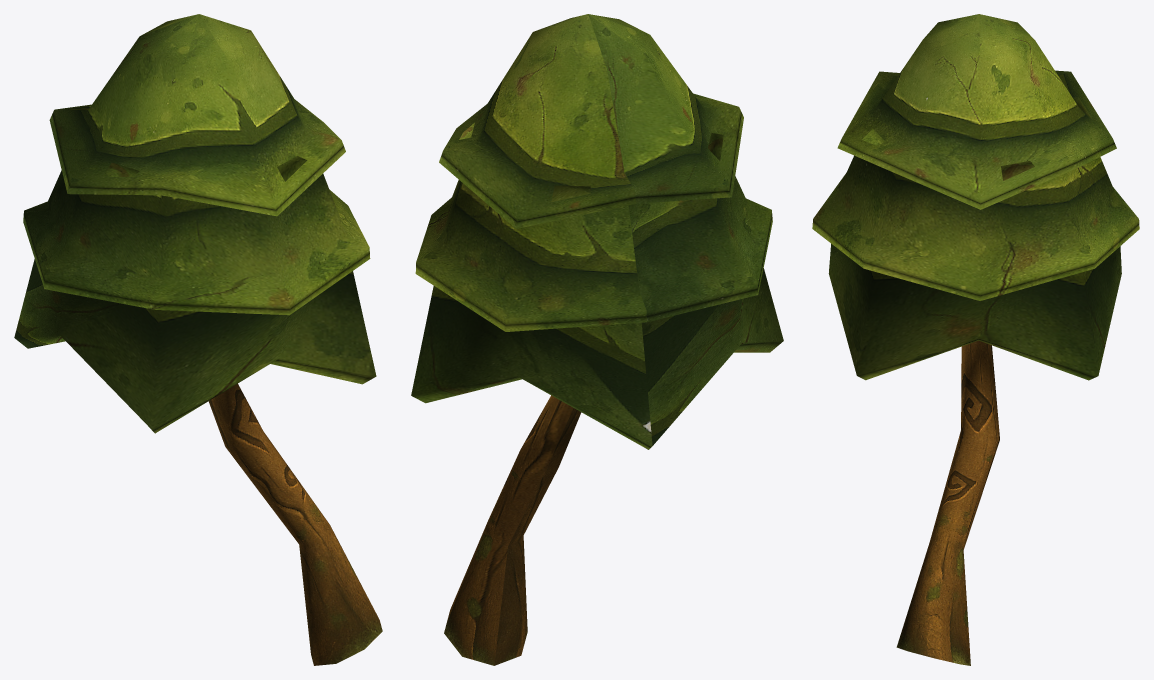
The model's file is tree.fbx.
The picture shows the model from 3 angles, left to right: view 1: azimuth 30°, elevation 25°; view 2: azimuth 150°, elevation 25°; view 3: azimuth 270°, elevation 25°; orthographic projection. The views are drawn at different scales.
Parts seen in each view (by area): view 1: polySurface91.002; view 2: polySurface91.002; view 3: polySurface91.002.
Part boxes in pixels (left/top/right/bottom): polySurface91.002: left=14, top=14, right=382, bottom=665; polySurface91.002: left=411, top=14, right=783, bottom=665; polySurface91.002: left=812, top=14, right=1139, bottom=665.
Bounding box in the file's own units: 7.34 × 14.62 × 7.19.
1 material, 1 textured.
